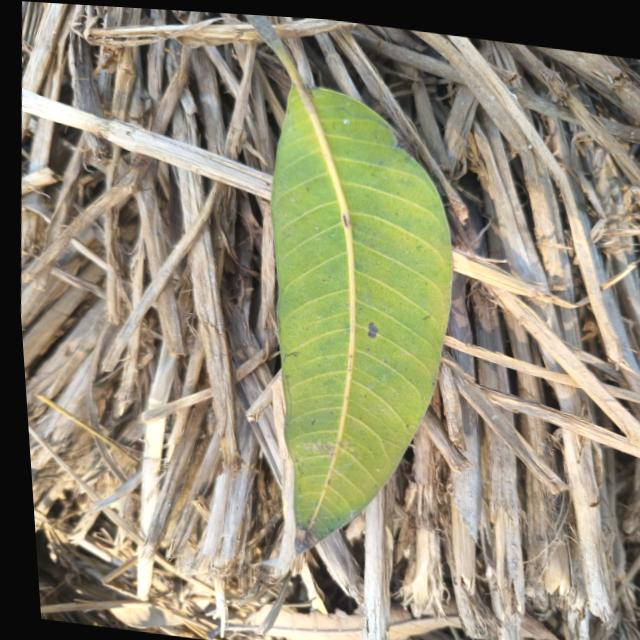black die: (359, 316, 385, 343)
